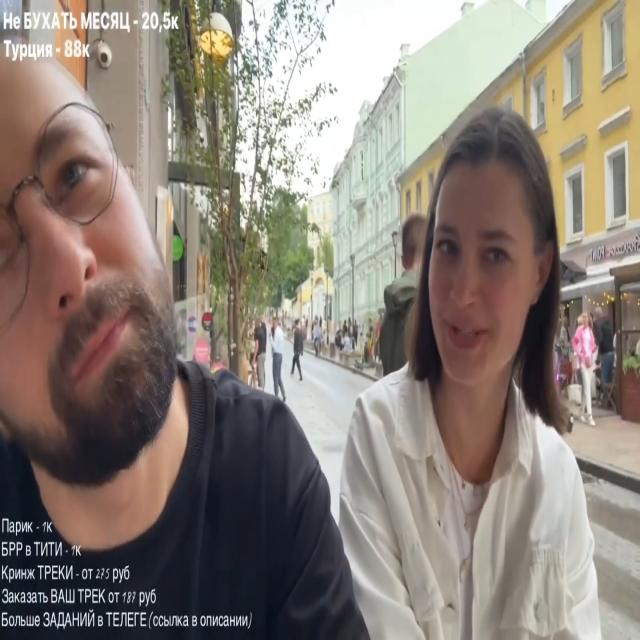Person: (0, 42, 359, 631), (329, 112, 618, 638), (570, 313, 600, 426), (268, 318, 292, 400), (292, 321, 307, 377), (312, 322, 323, 355)
